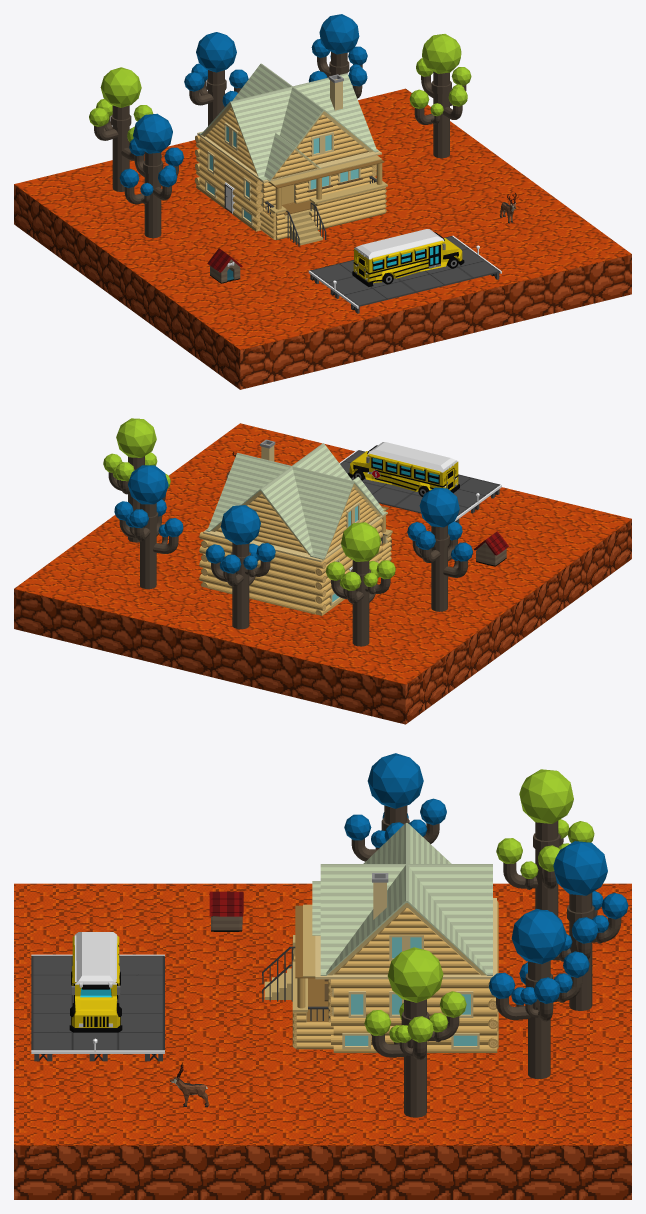
3 renders of one model, top to bottom at view 1: azimuth 30°, elevation 25°; view 2: azimuth 150°, elevation 25°; view 3: azimuth 270°, elevation 25°, orthographic. The views are drawn at different scales.
Parts seen in each view (by area): view 1: Cube.001, Cube.1516, VEHICLES_SCHOOL_BUS, OBJRANDOM_DOGHOUSE; view 2: Cube.001, Cube.1516, VEHICLES_SCHOOL_BUS, OBJRANDOM_DOGHOUSE; view 3: Cube.001, Cube.1516, VEHICLES_SCHOOL_BUS, OBJRANDOM_DOGHOUSE.
Boxes of the visible parts, x1=… form: Cube.001: x1=14, y1=14, x2=631, y2=389; Cube.1516: x1=195, y1=63, x2=387, y2=246; VEHICLES_SCHOOL_BUS: x1=352, y1=229, x2=464, y2=286; OBJRANDOM_DOGHOUSE: x1=207, y1=248, x2=242, y2=283; Cube.001: x1=14, y1=418, x2=631, y2=724; Cube.1516: x1=199, y1=439, x2=392, y2=615; VEHICLES_SCHOOL_BUS: x1=348, y1=442, x2=459, y2=496; OBJRANDOM_DOGHOUSE: x1=473, y1=531, x2=508, y2=566; Cube.001: x1=14, y1=753, x2=631, y2=1199; Cube.1516: x1=262, y1=823, x2=498, y2=1052; VEHICLES_SCHOOL_BUS: x1=69, y1=932, x2=122, y2=1032; OBJRANDOM_DOGHOUSE: x1=209, y1=891, x2=243, y2=931.
Size of the model in its own units: 4000 by 1663 by 4000.
Materials: 44 (5 with a texture image).
